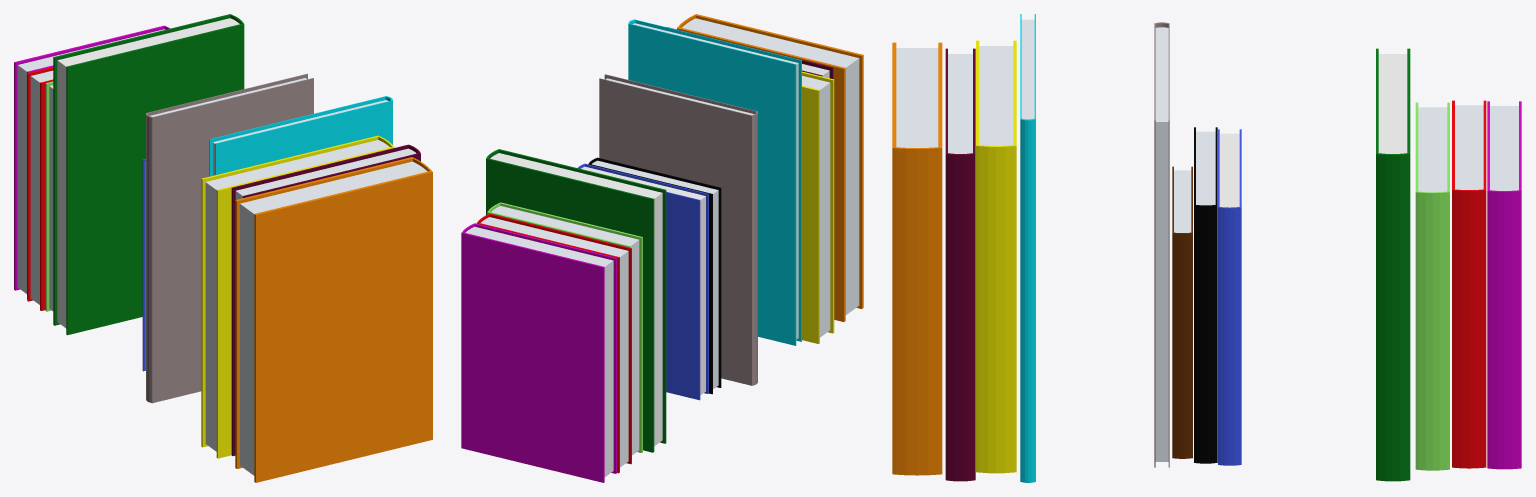
The model's file is LowPolyBooks.dae.
3 views of the same model, side by side, from view 1: azimuth 30°, elevation 25°; view 2: azimuth 150°, elevation 25°; view 3: azimuth 270°, elevation 25° (orthographic). The views are drawn at different scales.
Parts seen in each view (by area): view 1: Book_001, Book_002, Book_006, Book_011, Book_010, Book_008, Book_009, Book_012, Book_007, Book_004; view 2: Book_009, Book_010, Book_006, Book_002, Book_001, Book_004, Book_011, Book_008, Book_007, Book_003, Book_012; view 3: Book_001, Book_011, Book_002, Book_012, Book_007, Book_008, Book_009, Book_004, Book_003, Book_010, Book_006, Book_005.
Boxes of the visible parts, x1,y1,x2,y2 form: Book_001: (235,157,432,482); Book_002: (53,14,244,335); Book_006: (146,73,313,403); Book_011: (201,135,394,458); Book_010: (209,96,392,176); Book_008: (27,67,53,310); Book_009: (14,25,170,298); Book_012: (231,144,420,455); Book_007: (45,81,53,311); Book_004: (142,158,145,371); Book_009: (461,223,616,482); Book_010: (628,19,801,345); Book_006: (599,74,757,385); Book_002: (486,149,666,452); Book_001: (677,14,863,321); Book_004: (578,163,708,400); Book_011: (802,71,834,343); Book_008: (476,213,631,473); Book_007: (487,202,642,455); Book_003: (588,157,721,394); Book_012: (666,27,833,78); Book_001: (892,42,942,475); Book_011: (976,40,1016,473); Book_002: (1376,48,1410,481); Book_012: (945,48,975,481); Book_007: (1415,102,1449,470); Book_008: (1452,100,1486,468); Book_009: (1487,101,1521,469); Book_004: (1218,129,1241,465); Book_003: (1194,127,1217,463); Book_010: (1020,14,1035,482); Book_006: (1154,22,1169,467); Book_005: (1172,166,1192,458).
Bounding box in the file's own units: 1.52 × 3.5 × 2.22.
1 material, 1 textured.
